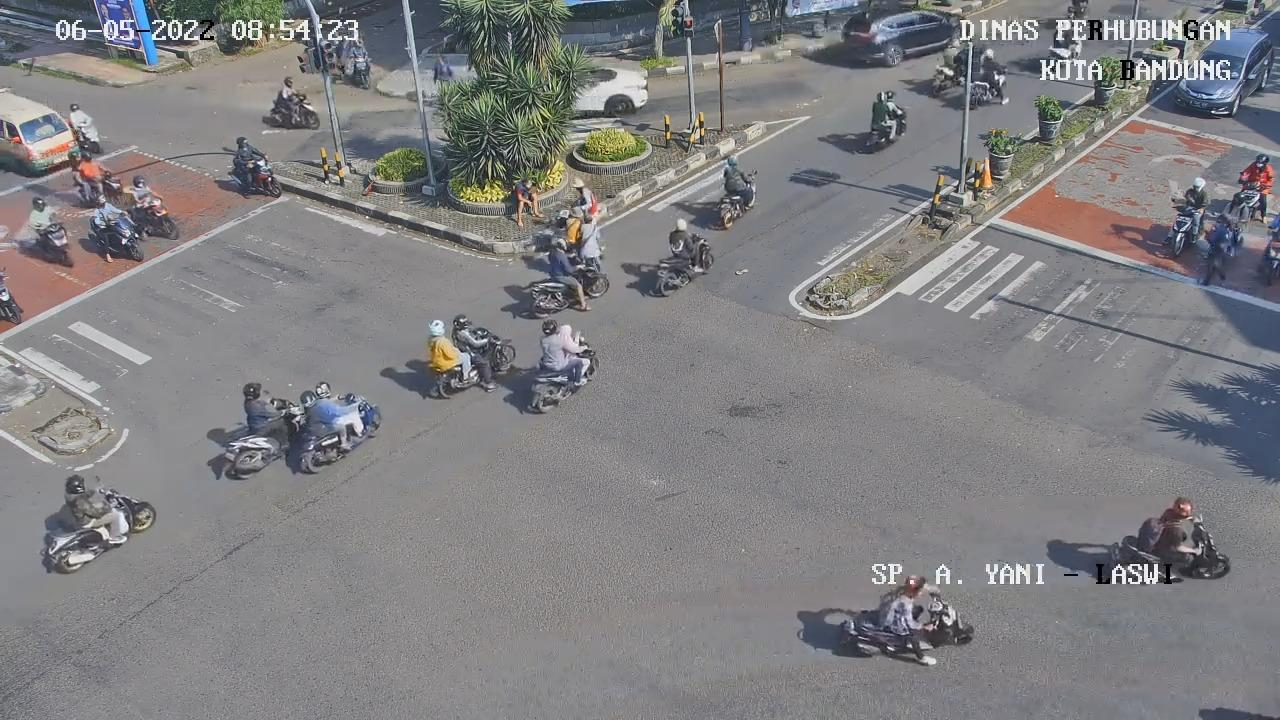accident: (515, 177, 546, 227)
